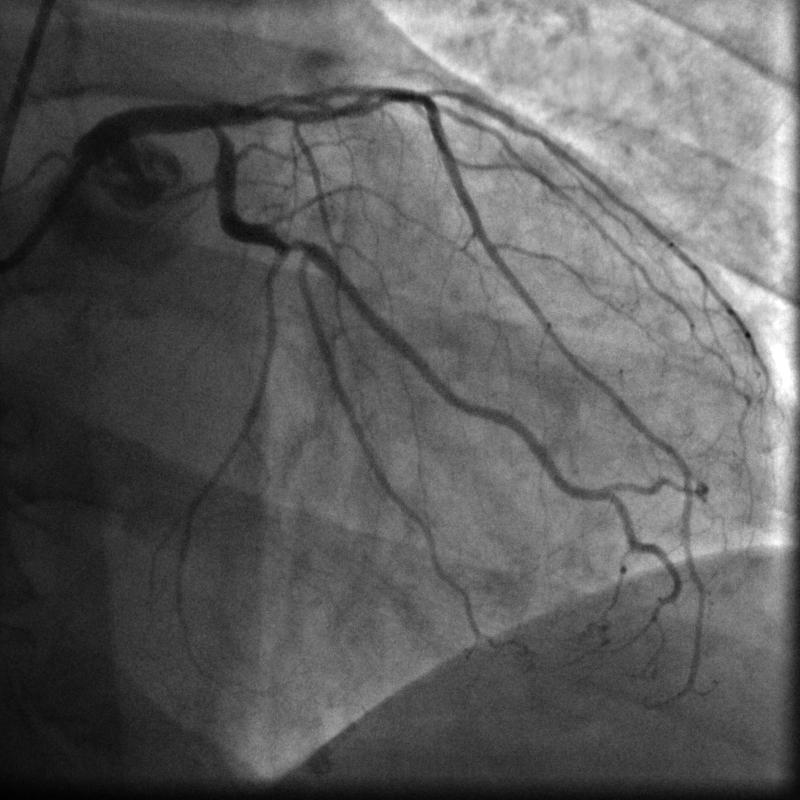Stenosis: (279, 235, 310, 253)
